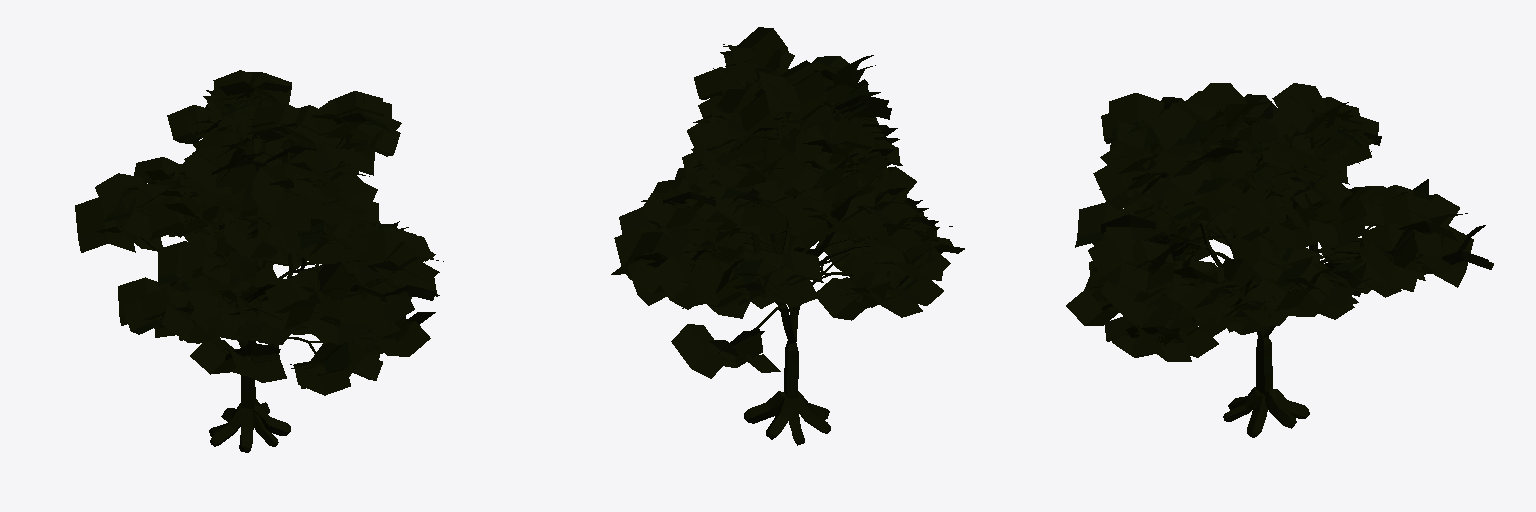
The model's file is Tree2.obj.
The picture shows the model from 3 angles: view 1: azimuth 30°, elevation 25°; view 2: azimuth 150°, elevation 25°; view 3: azimuth 270°, elevation 25°; orthographic projection.
Visible parts, largest first — view 1: Sonnerat; view 2: Sonnerat; view 3: Sonnerat.
Boxes of the visible parts, <box> form: Sonnerat: <box>75,70,443,452</box>; Sonnerat: <box>611,27,964,445</box>; Sonnerat: <box>1066,83,1493,437</box>.
Bounding box in the file's own units: 23.66 × 27.21 × 29.94.